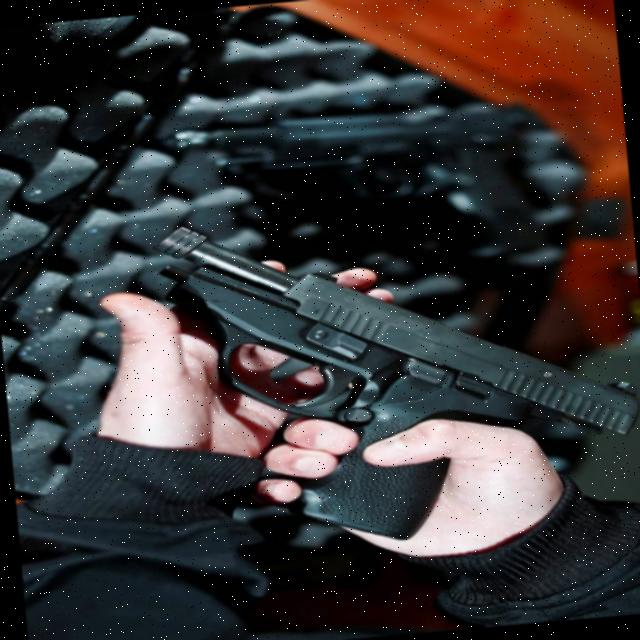Handgun: (140, 195, 640, 556)
